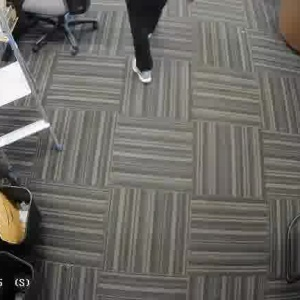person: (121, 0, 170, 83)
